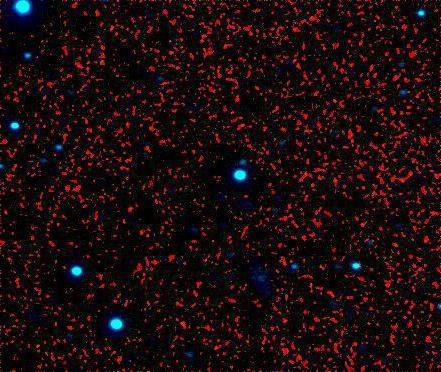star: (345, 30, 375, 60)
